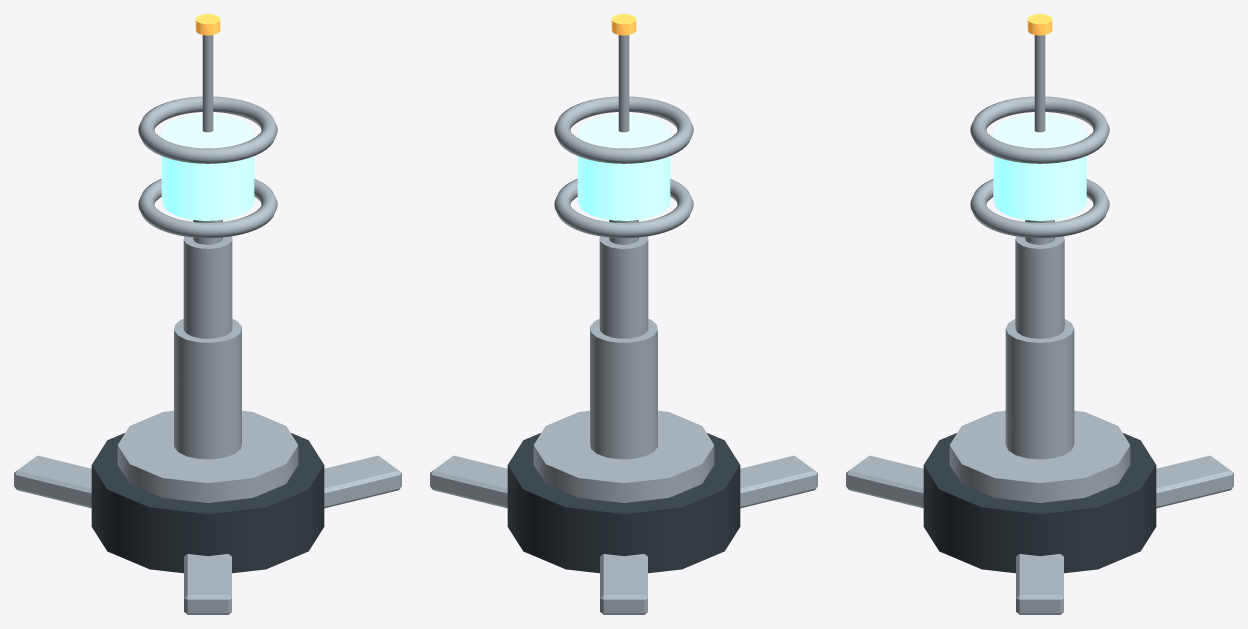
The model's file is beacon.glb.
3 views of the same model, side by side, from view 1: azimuth 30°, elevation 25°; view 2: azimuth 150°, elevation 25°; view 3: azimuth 270°, elevation 25° (orthographic).
Parts seen in each view (by area): view 1: base, telescopic_mast (×2), base_cap, deployed_foot (×3), emitter_guard (×2), beacon_emitter, antenna; view 2: base, telescopic_mast (×2), base_cap, deployed_foot (×3), emitter_guard (×2), beacon_emitter, antenna; view 3: base, telescopic_mast (×2), base_cap, deployed_foot (×3), emitter_guard (×2), beacon_emitter, antenna.
Boxes of the visible parts, box(x1,y1,x2,y2) form: base: box(91, 433, 324, 573); telescopic_mast (×2): box(174, 236, 241, 459); base_cap: box(117, 410, 298, 502); deployed_foot (×3): box(14, 455, 401, 614); emitter_guard (×2): box(138, 96, 277, 238); beacon_emitter: box(161, 113, 254, 220); antenna: box(202, 35, 213, 132); base: box(507, 433, 740, 573); telescopic_mast (×2): box(590, 236, 657, 459); base_cap: box(533, 410, 714, 502); deployed_foot (×3): box(430, 455, 817, 614); emitter_guard (×2): box(554, 96, 693, 238); beacon_emitter: box(577, 113, 670, 220); antenna: box(618, 35, 629, 132); base: box(923, 433, 1156, 573); telescopic_mast (×2): box(1005, 236, 1074, 459); base_cap: box(949, 411, 1130, 502); deployed_foot (×3): box(846, 455, 1233, 614); emitter_guard (×2): box(970, 96, 1109, 238); beacon_emitter: box(993, 114, 1086, 220); antenna: box(1034, 35, 1045, 132).
Bounding box in the file's own units: 0.2464 × 0.4095 × 0.2834.
